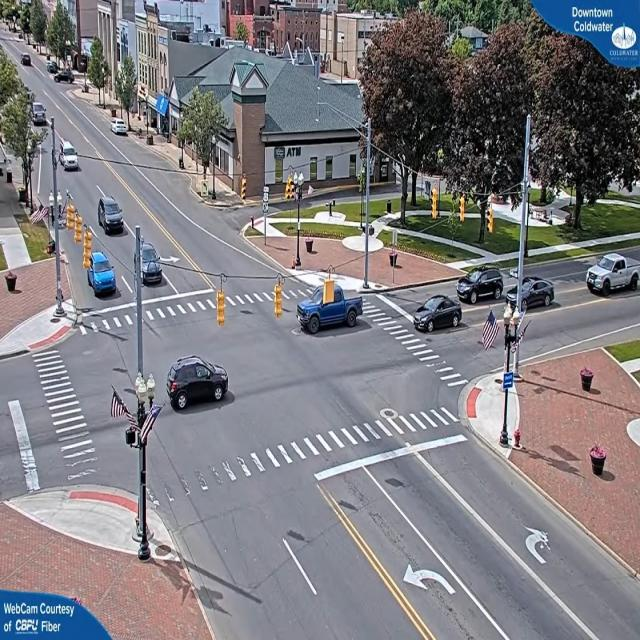car: (165, 356, 229, 412), (295, 282, 363, 332), (584, 253, 639, 298), (410, 294, 462, 334), (458, 269, 504, 305), (86, 250, 119, 296), (99, 197, 127, 235), (138, 240, 162, 284), (527, 277, 556, 309), (59, 142, 79, 172), (32, 104, 49, 128), (112, 120, 129, 136), (22, 53, 33, 67)
